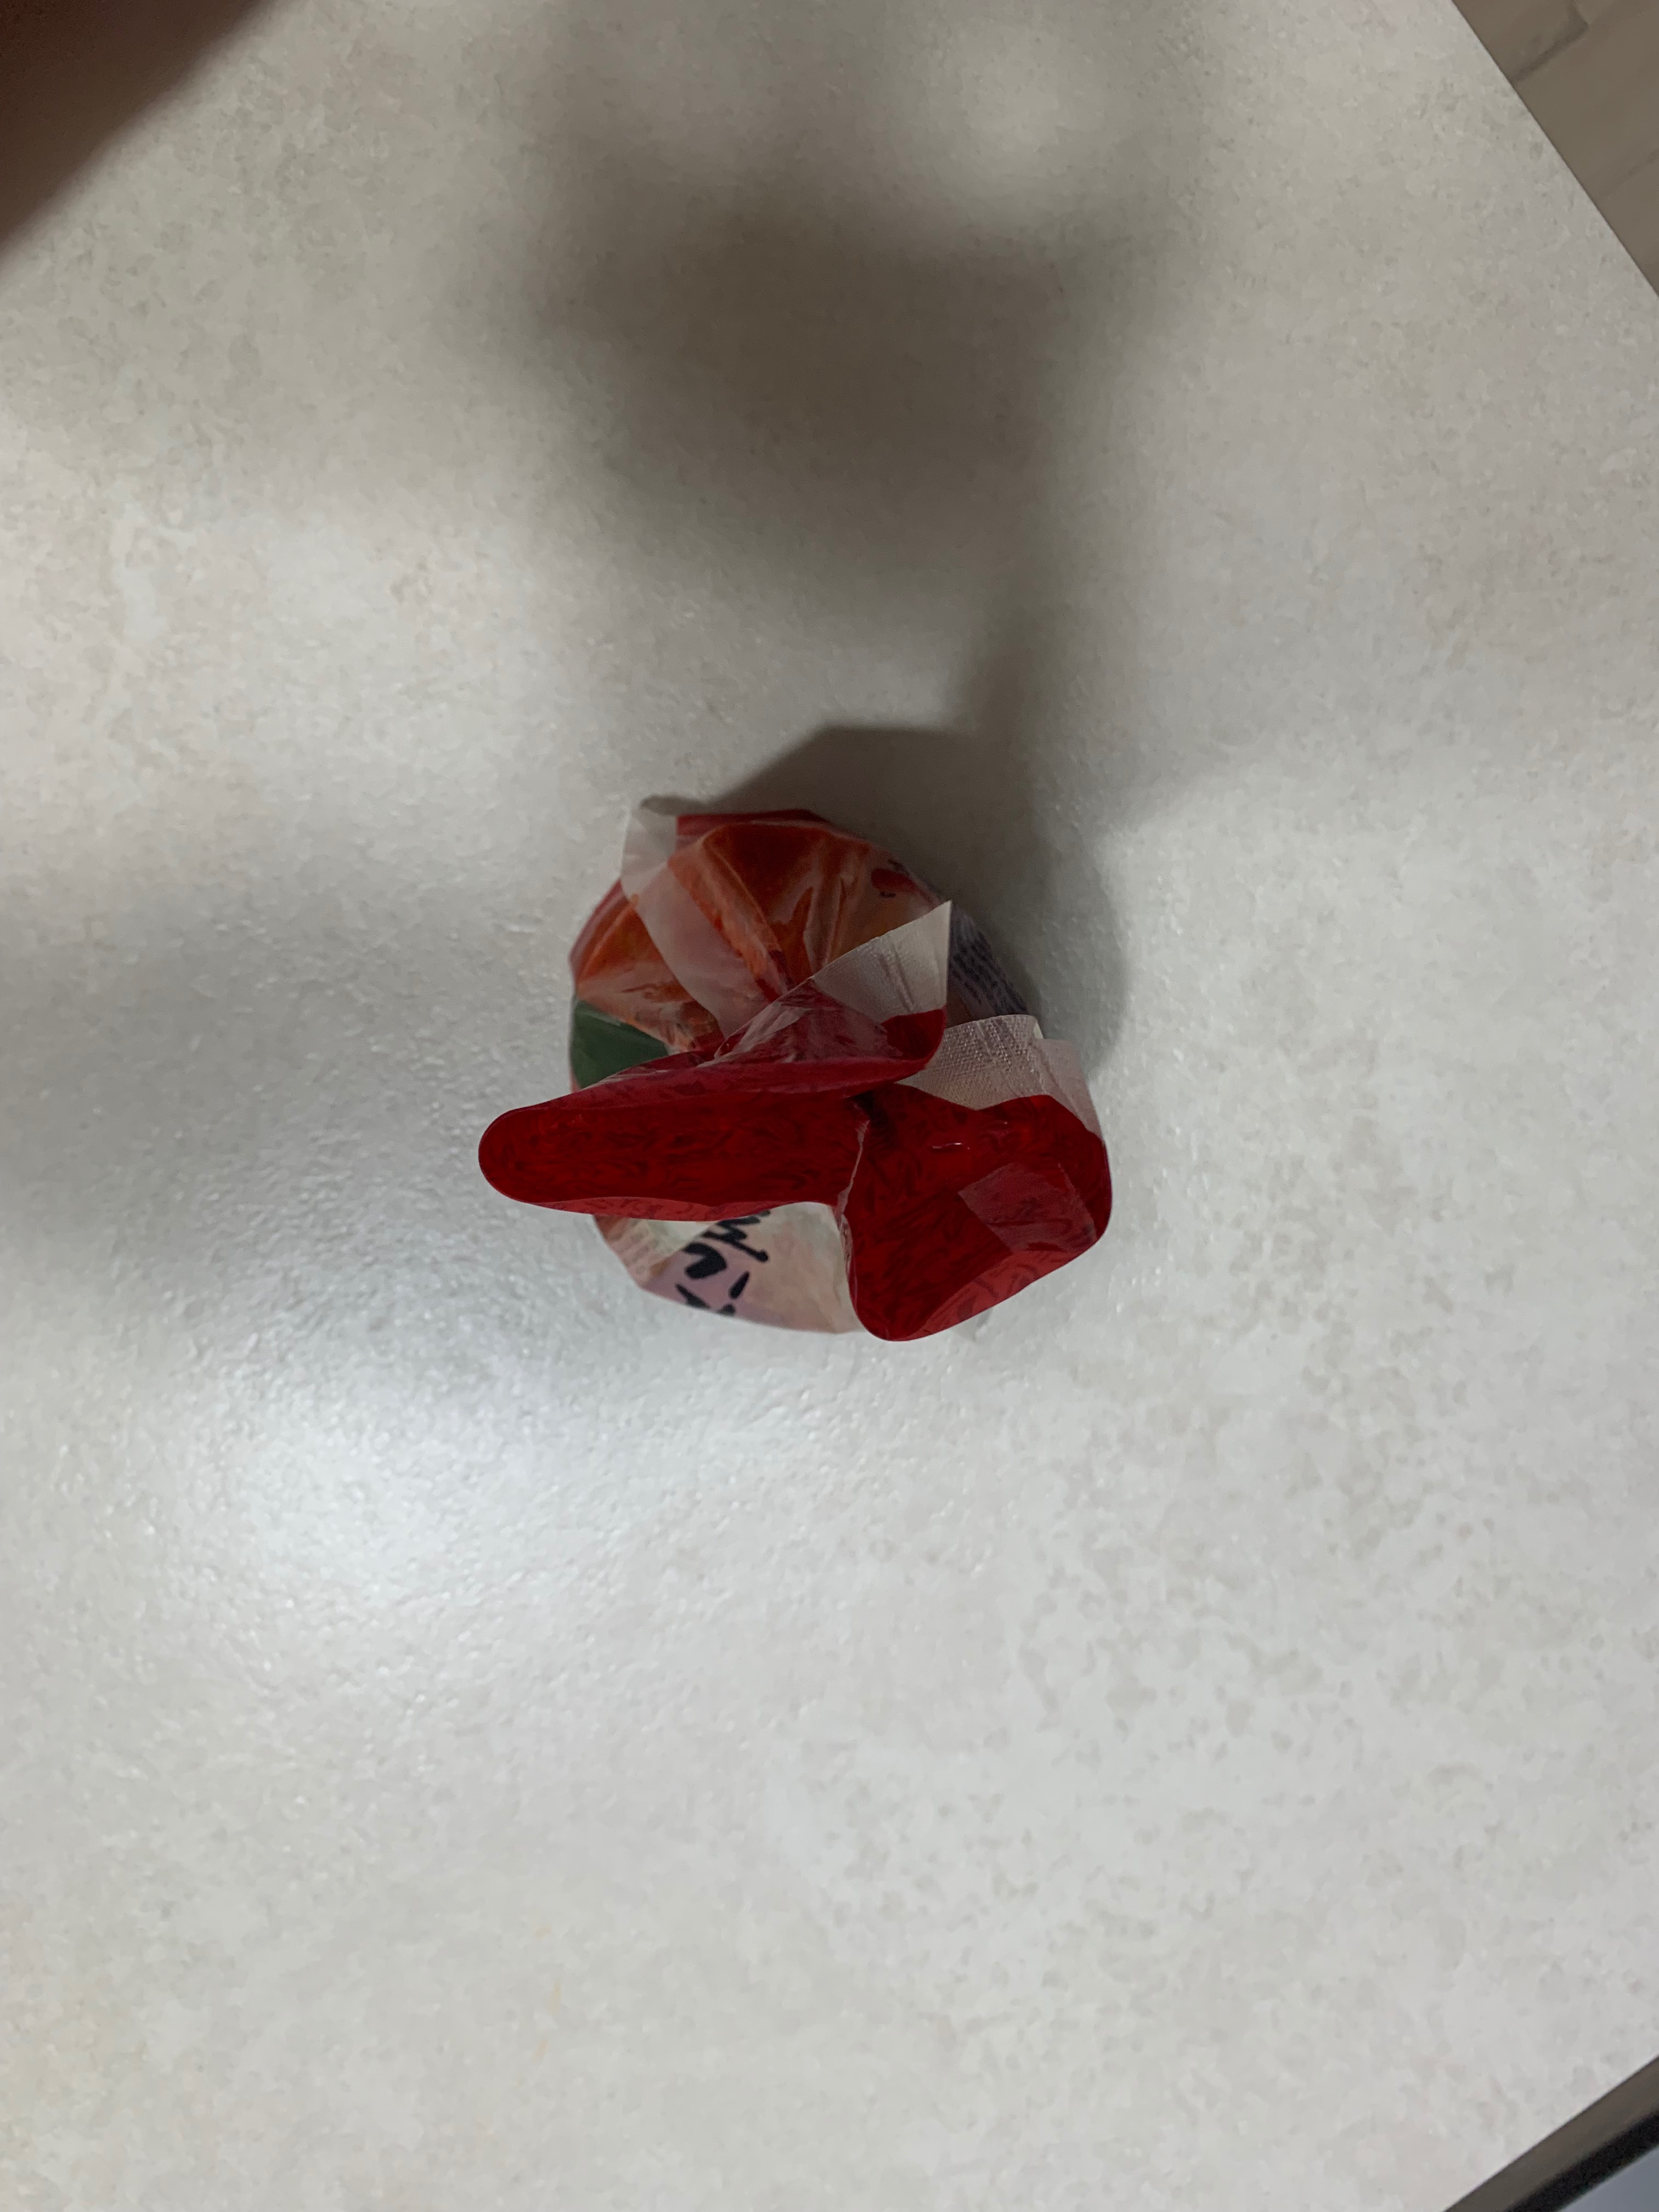kimchi: (484, 815, 1117, 1341)
